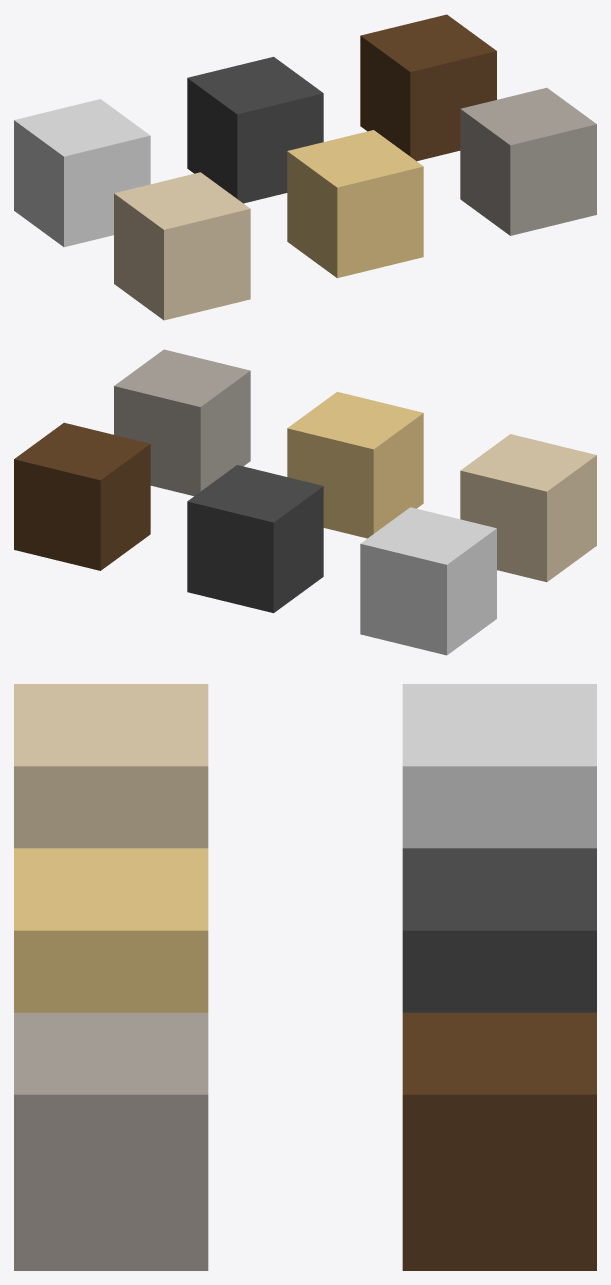
The model's file is finitura-metallo.glb.
The picture shows the model from 3 angles, top to bottom: view 1: azimuth 30°, elevation 25°; view 2: azimuth 150°, elevation 25°; view 3: azimuth 270°, elevation 25°; orthographic projection. The views are drawn at different scales.
Parts seen in each view (by area): view 1: ALU_ANO_champagne, ALU_ANO_oro, ALU_ANO_titanio, ALU_ANO_alluminio, ALU_ANO_nero, ALU_ANO_bronzo; view 2: ALU_ANO_alluminio, ALU_ANO_nero, ALU_ANO_bronzo, ALU_ANO_champagne, ALU_ANO_oro, ALU_ANO_titanio; view 3: ALU_ANO_bronzo, ALU_ANO_titanio, ALU_ANO_nero, ALU_ANO_oro, ALU_ANO_alluminio, ALU_ANO_champagne.
Boxes of the visible parts, x1,y1,x2,y2 form: ALU_ANO_champagne: (114,172,250,320); ALU_ANO_oro: (287,130,423,278); ALU_ANO_titanio: (460,87,596,235); ALU_ANO_alluminio: (14,99,150,247); ALU_ANO_nero: (187,56,323,203); ALU_ANO_bronzo: (360,14,496,161); ALU_ANO_alluminio: (360,507,496,655); ALU_ANO_nero: (187,465,323,613); ALU_ANO_bronzo: (14,422,150,570); ALU_ANO_champagne: (460,434,596,582); ALU_ANO_oro: (287,391,423,538); ALU_ANO_titanio: (114,349,250,496); ALU_ANO_bronzo: (402,1012,596,1270); ALU_ANO_titanio: (14,1012,208,1270); ALU_ANO_nero: (402,848,596,1012); ALU_ANO_oro: (14,848,208,1012); ALU_ANO_alluminio: (402,684,596,848); ALU_ANO_champagne: (14,684,208,848).
Size of the model in its own units: 10 by 2 by 6.
